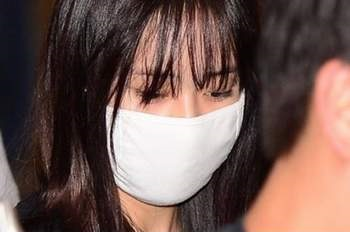face_mask: (102, 25, 244, 206)
